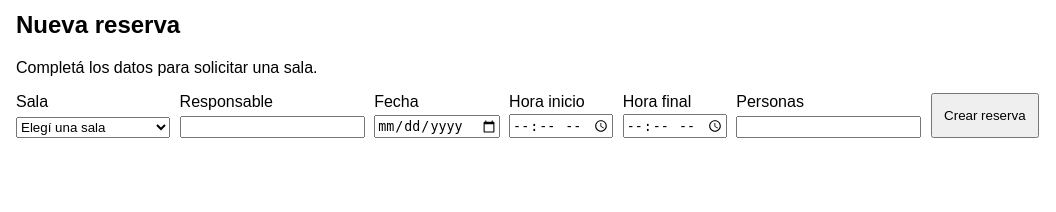
Scenario: comportamientos de frontend › bloquea una hora final anterior
Select "Sala A (capacidad 10)" in the dropdown labelled "Sala" at [93, 127], box [16,117,170,138]
Type "Ana" into the field labelled "Responsable" at [272, 127], box [180,116,365,138]
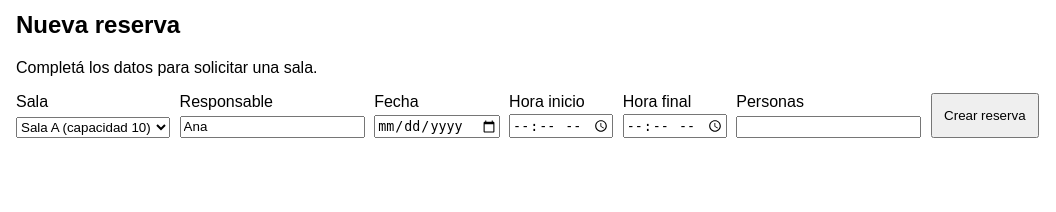
Type "2030-01-01" into the date field labelled "Fecha" at [437, 127], box [374,115,500,138]
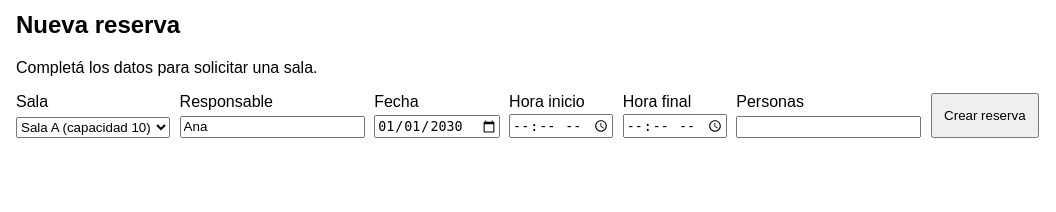
Type "11:00" into the time field labelled "Hora inicio" at [561, 126], box [509,114,613,138]
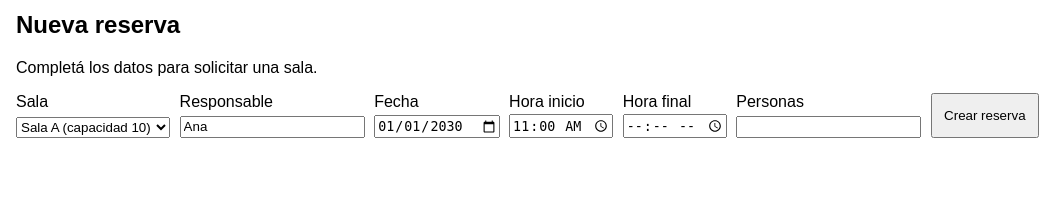
Type "10:00" into the time field labelled "Hora final" at [675, 126], box [623,114,727,138]
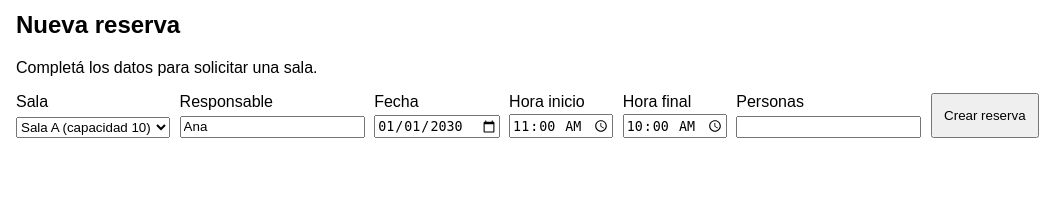
Type "2" into the number field labelled "Personas" at [829, 127], box [736,116,921,138]
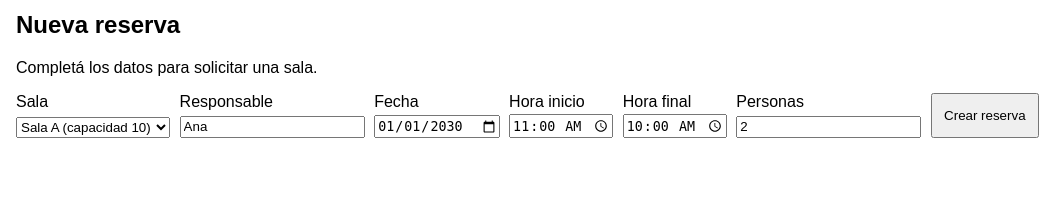
Click the button "Crear reserva" at [985, 116], box [931,93,1039,138]
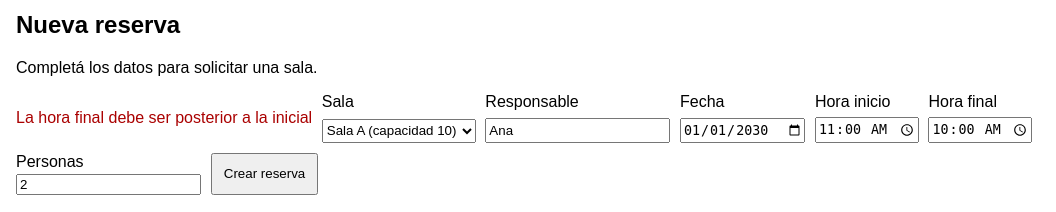
Expected: the message shows "posterior", [16,109,312,126]
